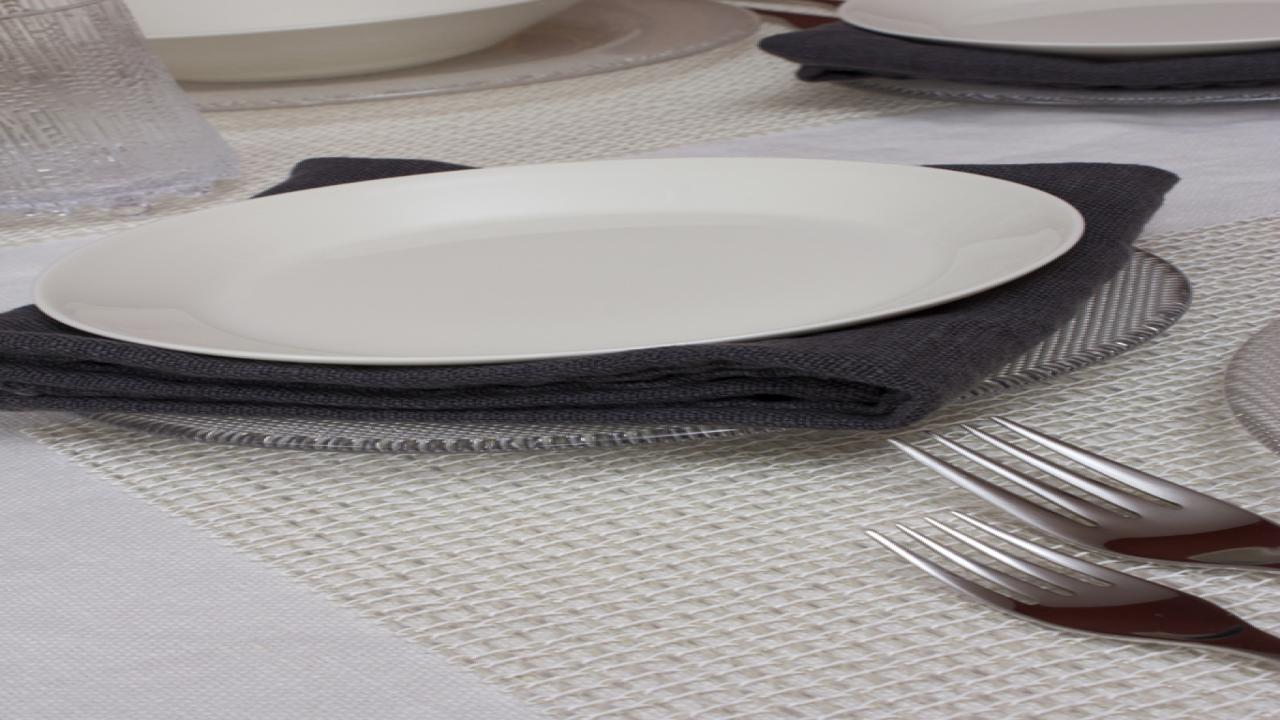fork: (867, 509, 1280, 668), (891, 415, 1280, 577)
